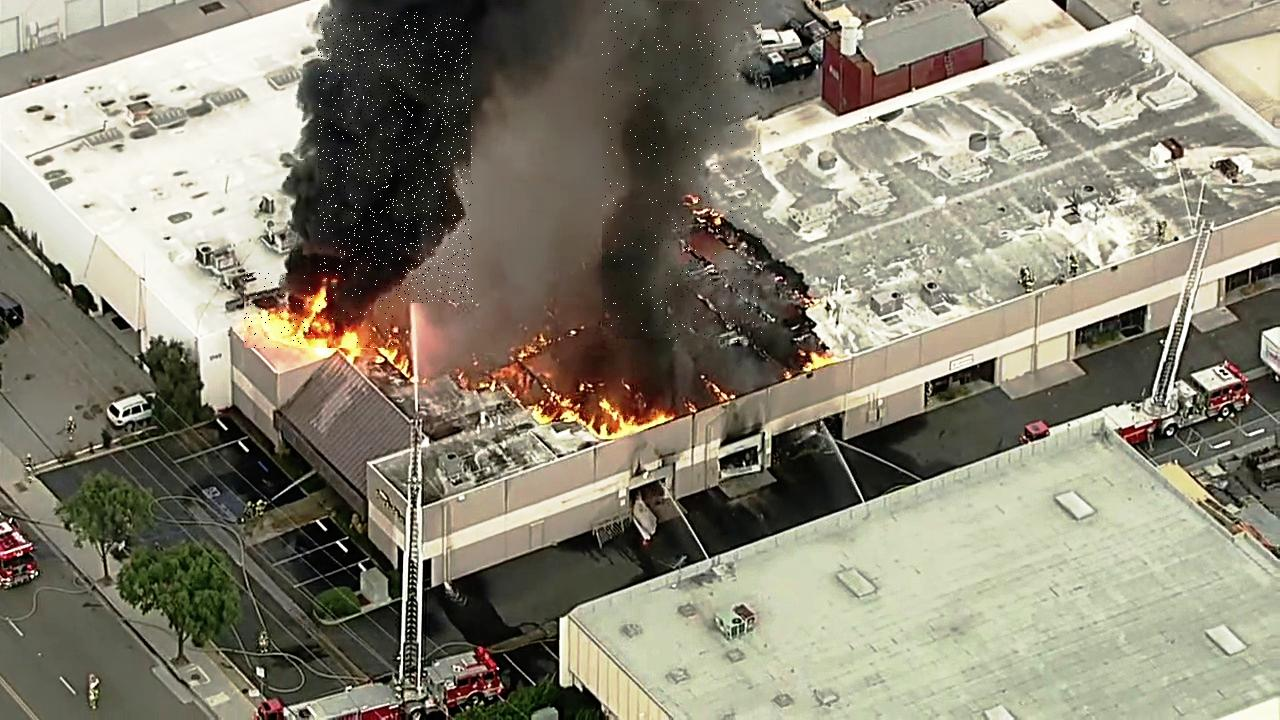fire: (245, 273, 397, 348)
smoke: (602, 2, 762, 343), (319, 12, 474, 303)
